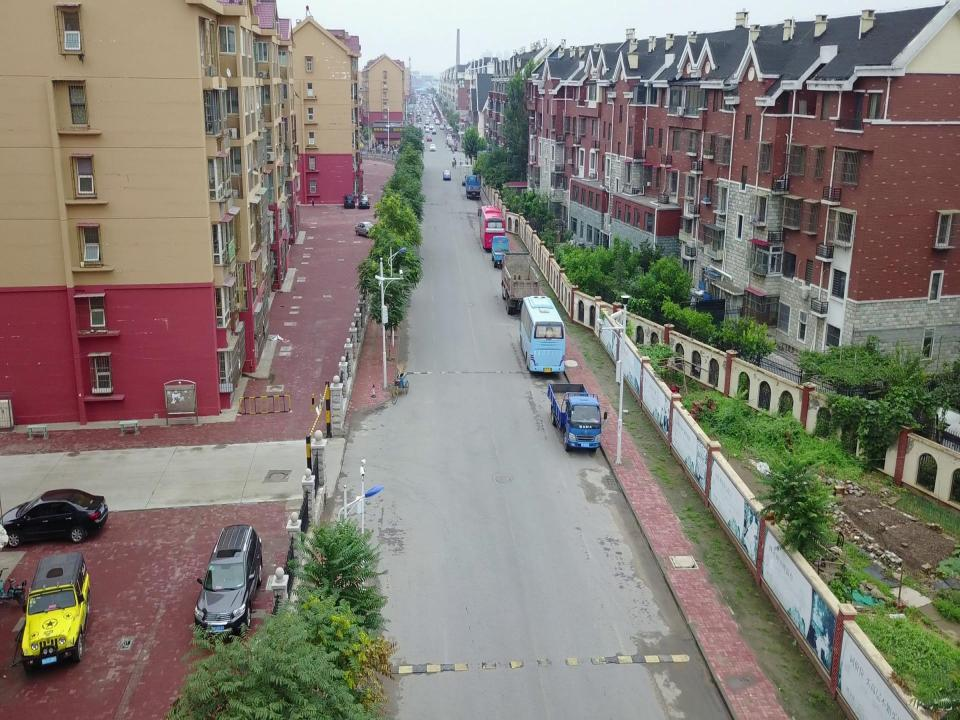bus: (519, 293, 566, 375), (477, 204, 507, 251)
car: (20, 551, 92, 672), (194, 522, 264, 638), (0, 488, 110, 547), (354, 221, 382, 240), (342, 192, 356, 209), (357, 193, 371, 208), (442, 168, 452, 180), (430, 143, 436, 152), (426, 134, 432, 142), (434, 119, 440, 125), (429, 123, 434, 130), (439, 124, 444, 129), (432, 128, 436, 134), (425, 120, 429, 125)
truck: (547, 382, 609, 454), (501, 250, 541, 316), (490, 234, 512, 269), (464, 174, 482, 199), (460, 164, 472, 185)
van: (425, 124, 429, 132), (426, 117, 430, 123), (434, 117, 438, 122)
